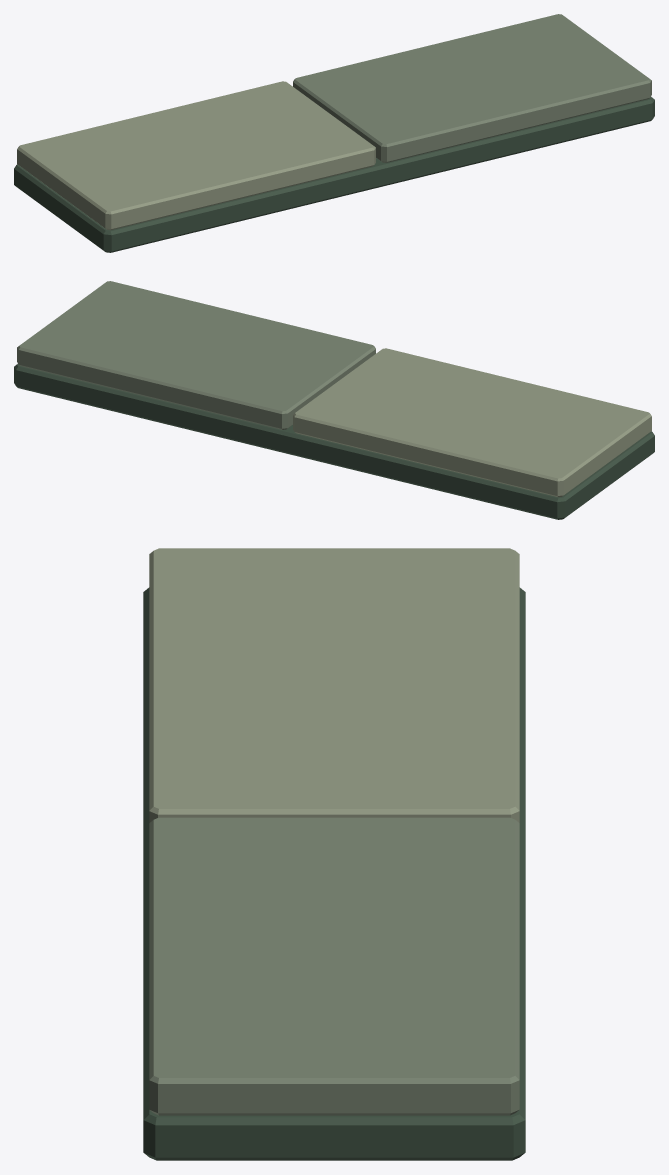
File: floor-threshold.glb
3 views of the same model, one above another, from view 1: azimuth 30°, elevation 25°; view 2: azimuth 150°, elevation 25°; view 3: azimuth 270°, elevation 25° (orthographic). The views are drawn at different scales.
Visible parts, largest first — view 1: floor-threshold__body; view 2: floor-threshold__body; view 3: floor-threshold__body.
Part boxes in pixels (x1=…): floor-threshold__body: x1=14, y1=14, x2=654, y2=252; floor-threshold__body: x1=14, y1=281, x2=654, y2=519; floor-threshold__body: x1=143, y1=548, x2=525, y2=1160.
Size of the model in its own units: 2 by 0.14 by 0.6.
